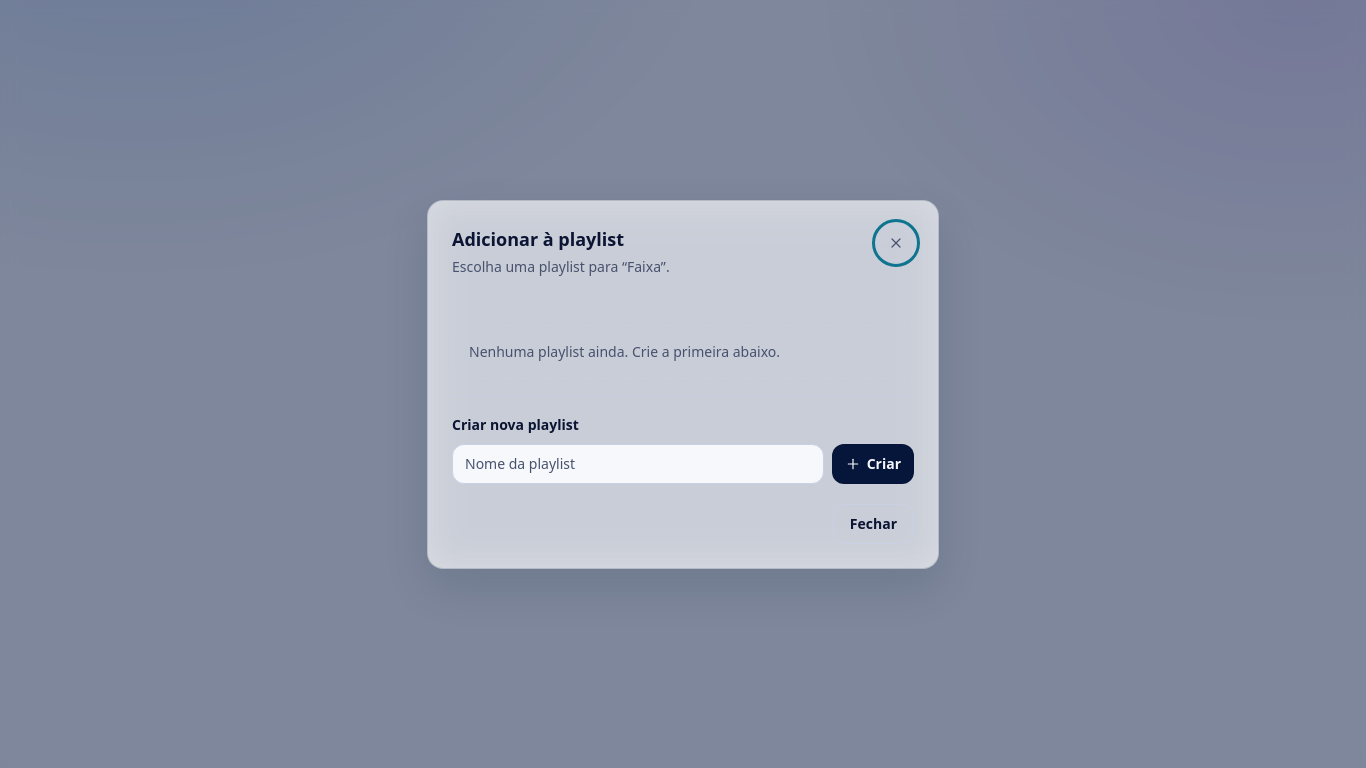
Scenario: AddToPlaylistDialog › cria uma nova playlist e adiciona a faixa
The width and height of the screenshot is (1366, 768).
Expected: the text "Nenhuma playlist ainda. Crie a primeira abaixo." is shown, [452, 324, 914, 378]
Type "Viagem" into the field labelled "Criar nova playlist" at (638, 464), box [452, 444, 824, 484]
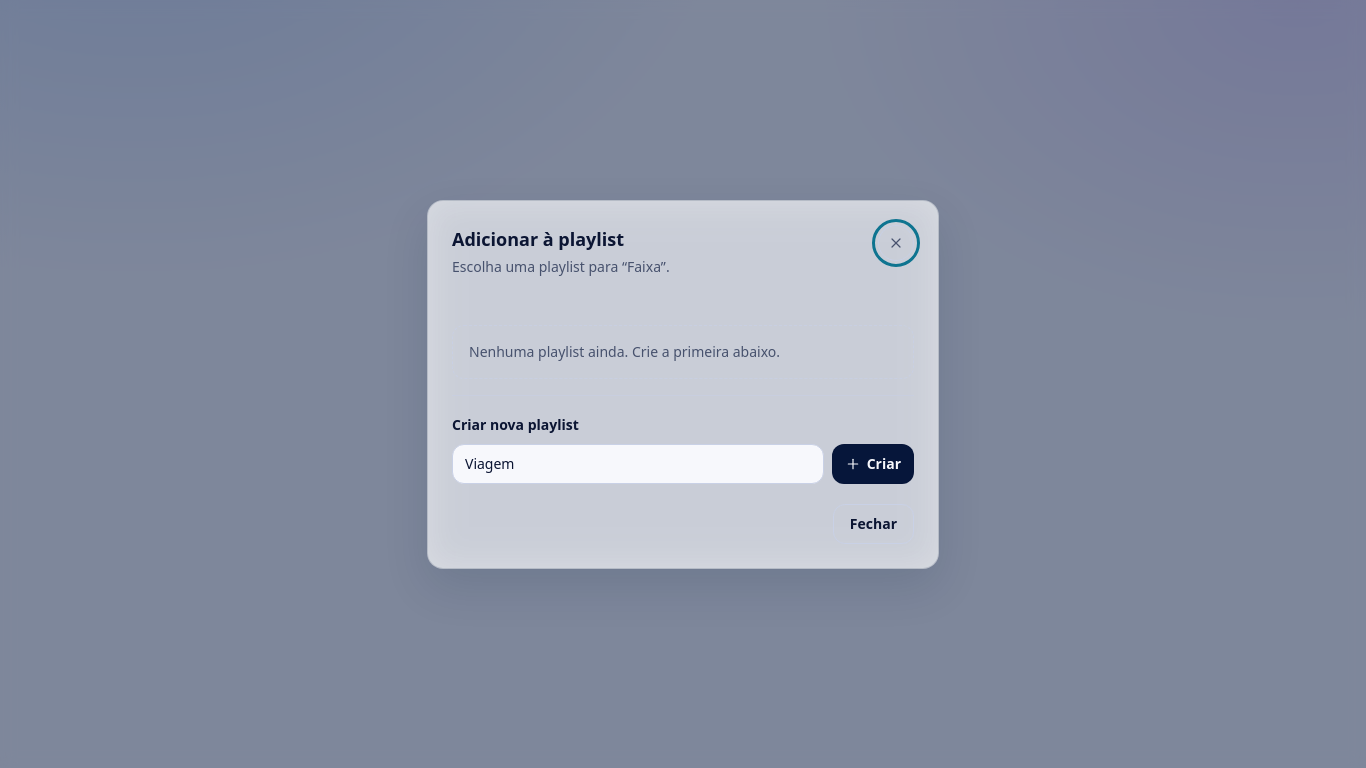
Click the button "Criar" at (873, 464), box [832, 444, 914, 484]
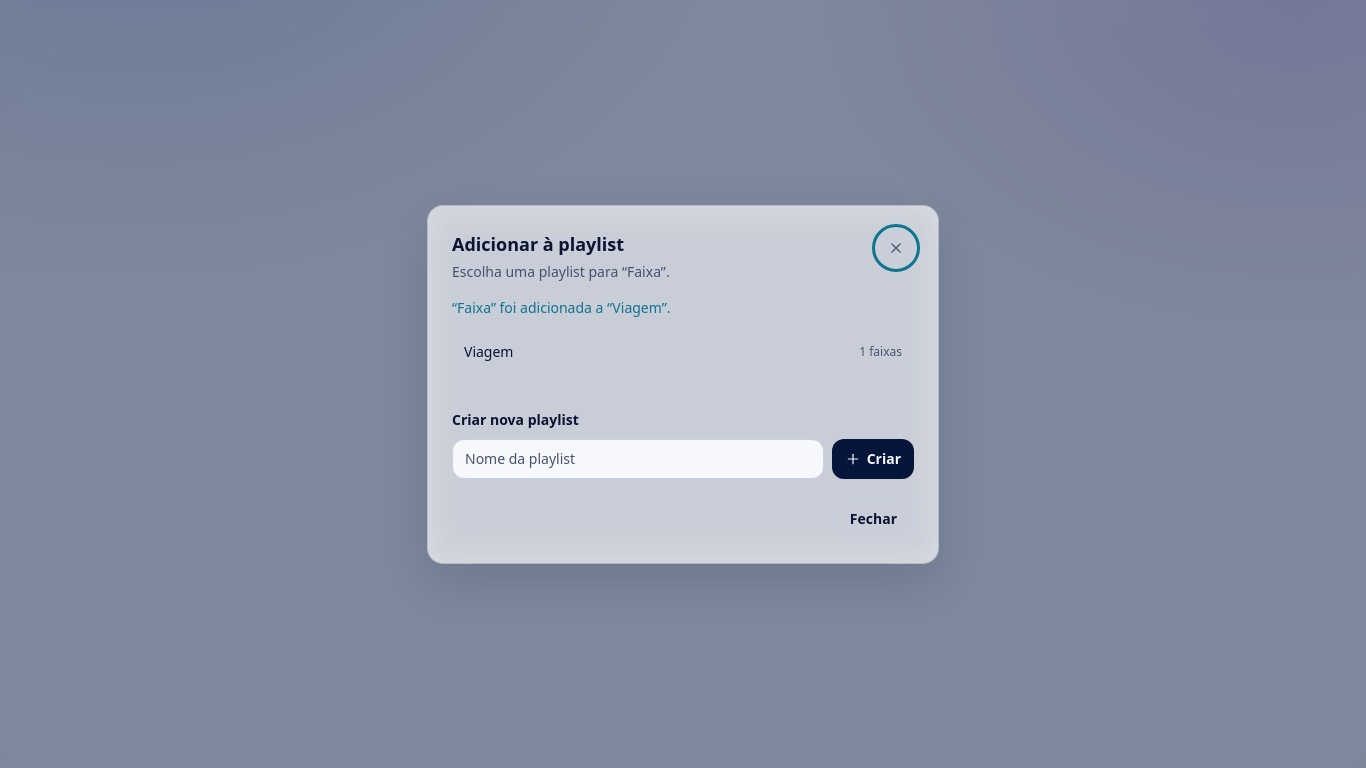
Now the text "“Faixa” foi adicionada a “Viagem”." is shown, box [452, 298, 670, 316]
